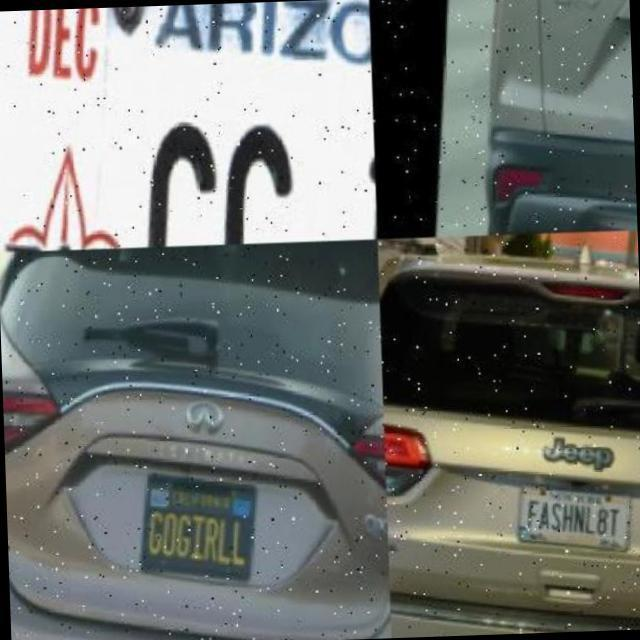License Plate: (80, 63, 378, 249), (124, 469, 264, 596), (506, 483, 625, 555)
